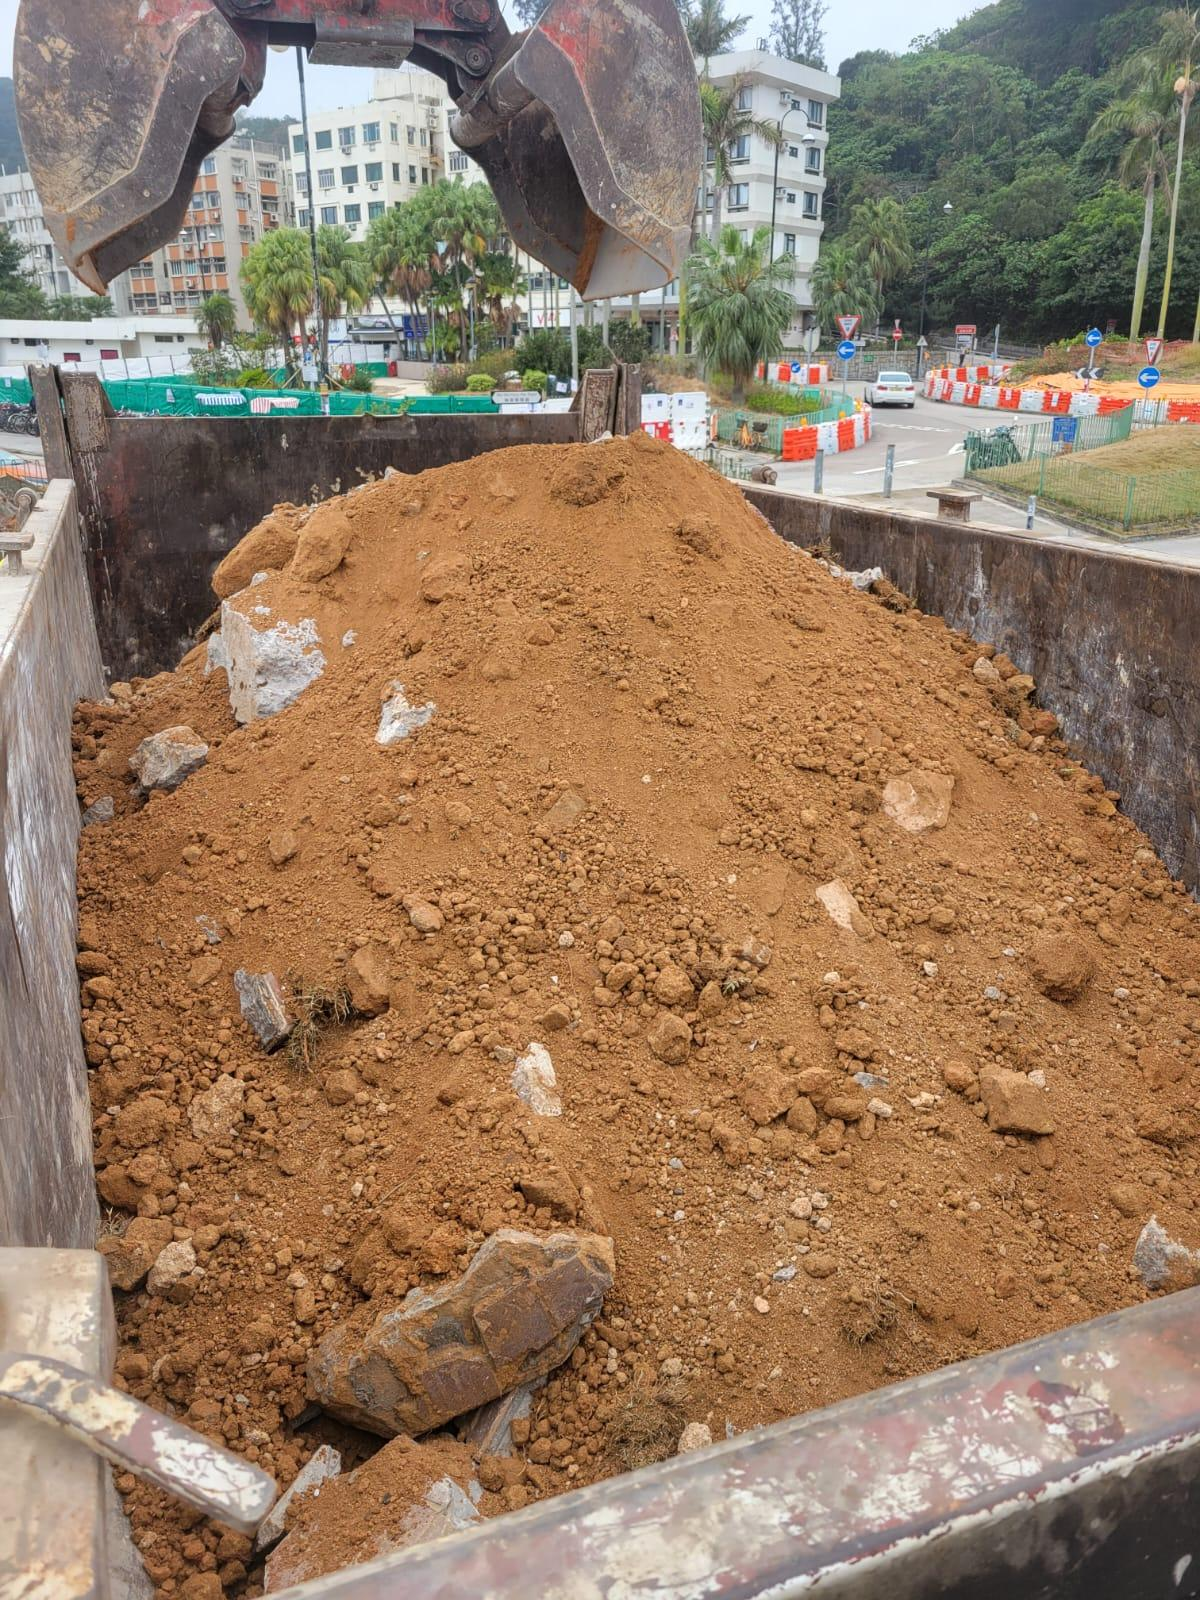dry: (68, 427, 1200, 1600)
